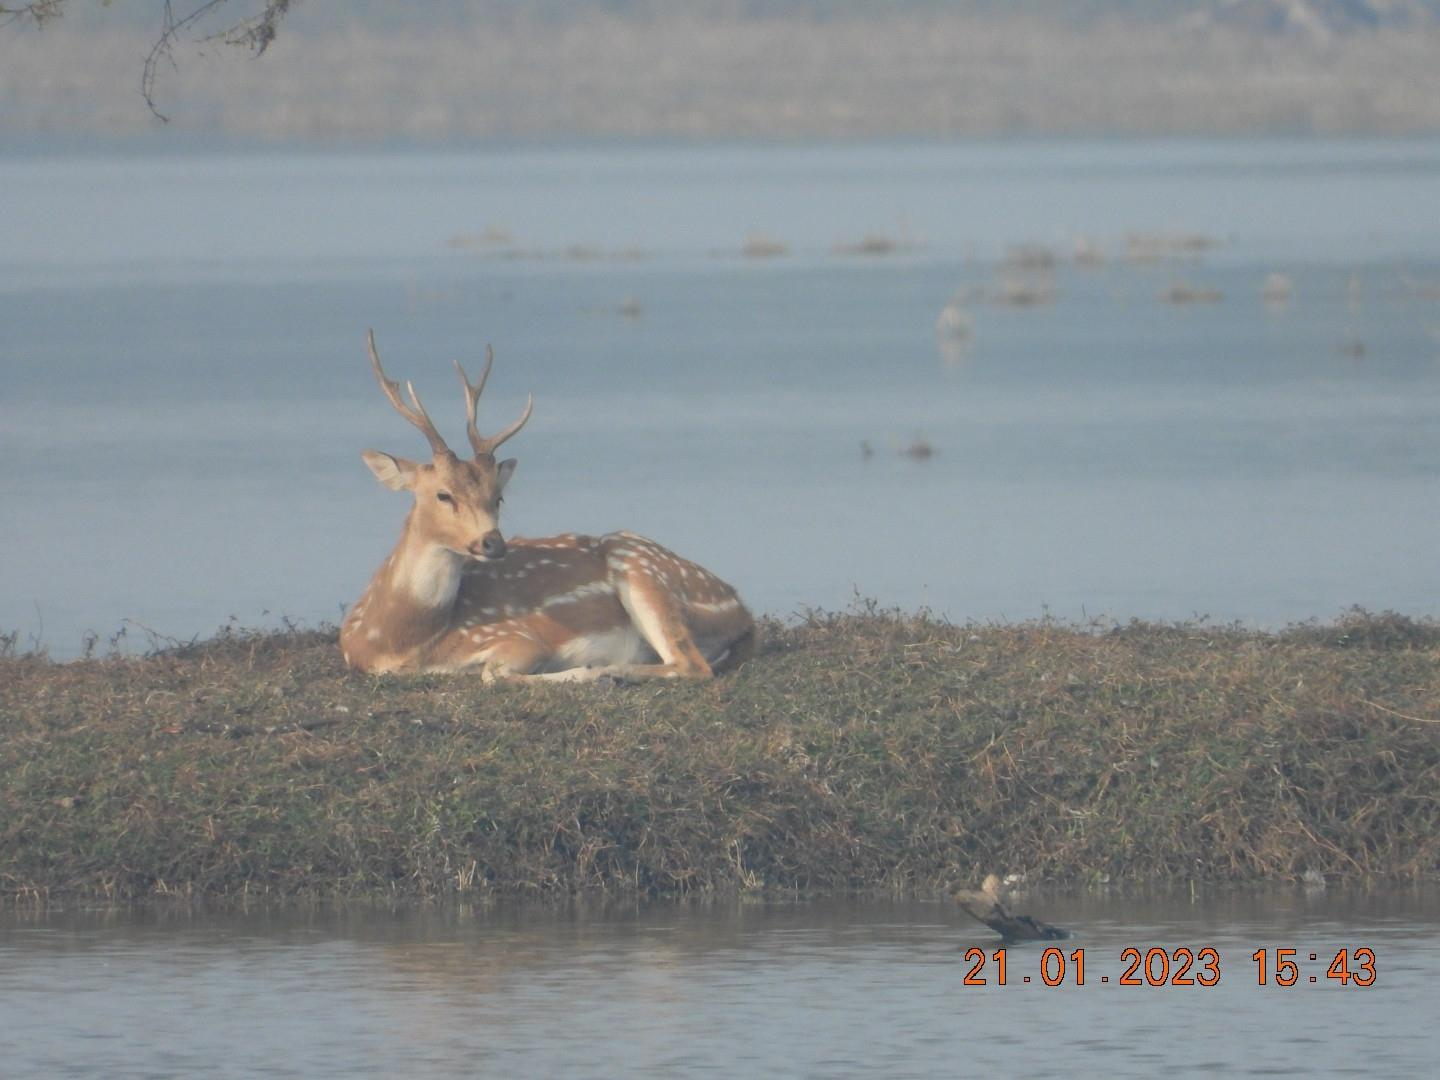Deer: (340, 334, 754, 681)
